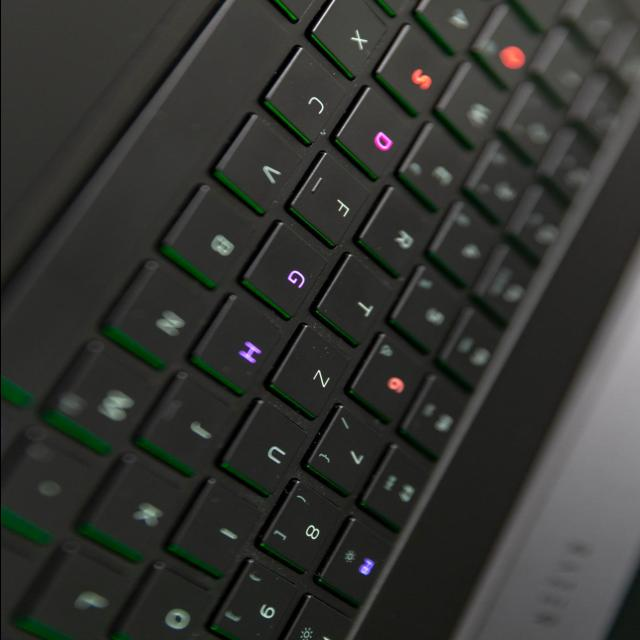1: (538, 26, 592, 102)
2: (502, 83, 568, 164)
3: (469, 140, 535, 224)
4: (432, 199, 504, 287)
5: (391, 265, 468, 354)
6: (350, 331, 430, 424)
7: (309, 400, 391, 498)
8: (260, 478, 348, 576)
9: (214, 556, 305, 640)
a: (417, 0, 494, 55)
alt-left: (249, 0, 339, 23)
b: (161, 183, 269, 291)
c: (263, 45, 350, 146)
comma: (0, 421, 107, 545)
d: (334, 85, 417, 181)
e: (402, 121, 470, 214)
f: (289, 149, 377, 251)
g: (241, 218, 330, 320)
h: (193, 291, 287, 397)
i: (172, 476, 266, 582)
j: (138, 368, 237, 477)
k: (82, 453, 188, 564)
l: (19, 542, 139, 640)
m: (46, 334, 160, 458)
n: (106, 258, 219, 371)
o: (112, 561, 218, 640)
q: (474, 3, 536, 89)
r: (360, 184, 432, 280)
s: (375, 23, 459, 116)
space: (1, 0, 323, 412)
t: (317, 251, 397, 349)
tab: (511, 0, 573, 31)
u: (222, 398, 310, 500)
v: (215, 111, 309, 216)
w: (438, 62, 504, 151)
x: (311, 0, 391, 80)
y: (352, 0, 431, 15)
z: (270, 321, 354, 423)
